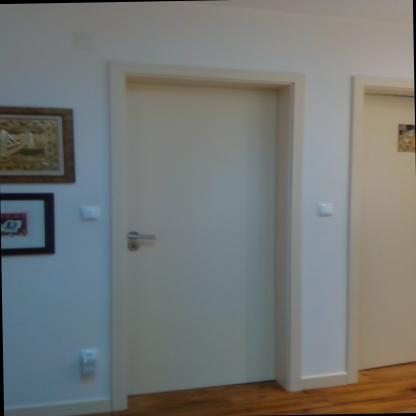closed: (104, 52, 315, 416), (340, 61, 416, 408)
